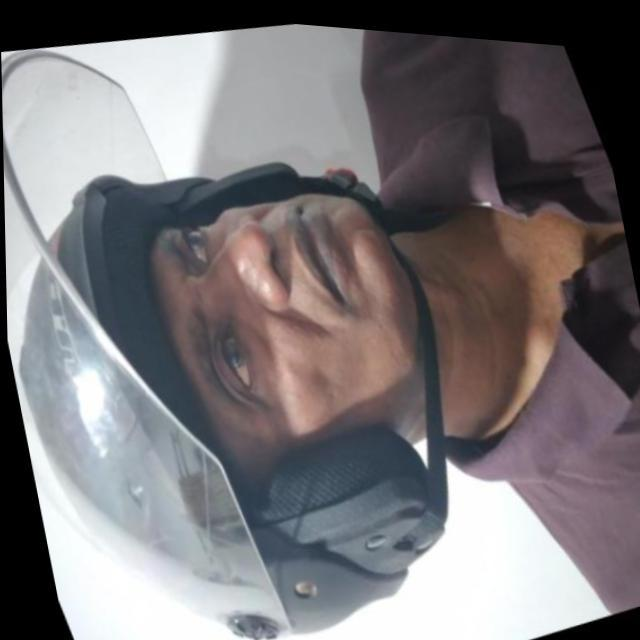with_helmet: (0, 54, 429, 616)
